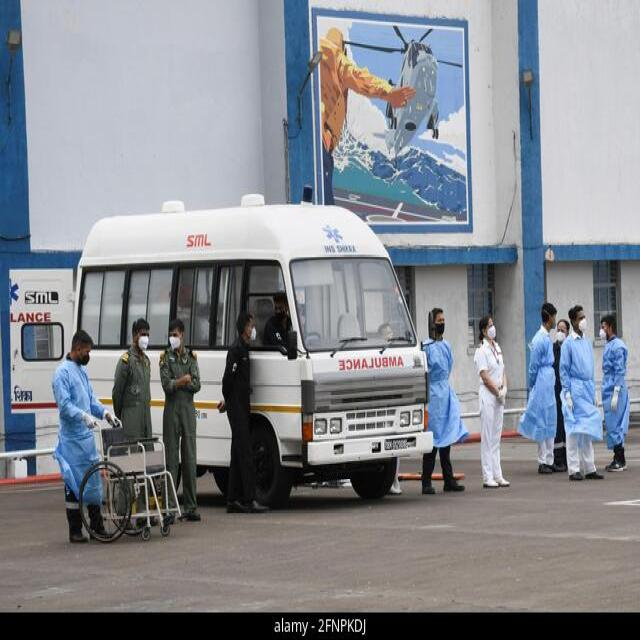emergency: (10, 194, 431, 507)
